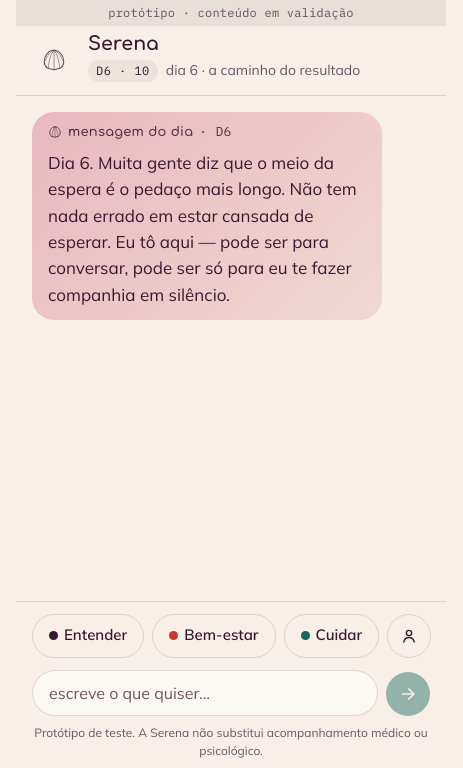
it: Chat (Degrau B) › chip Falar com uma pessoa abre a Ponte Humana direto
The image size is (463, 768).
Click the button named "Falar com uma pessoa" at (409, 636), box [387,614,431,658]
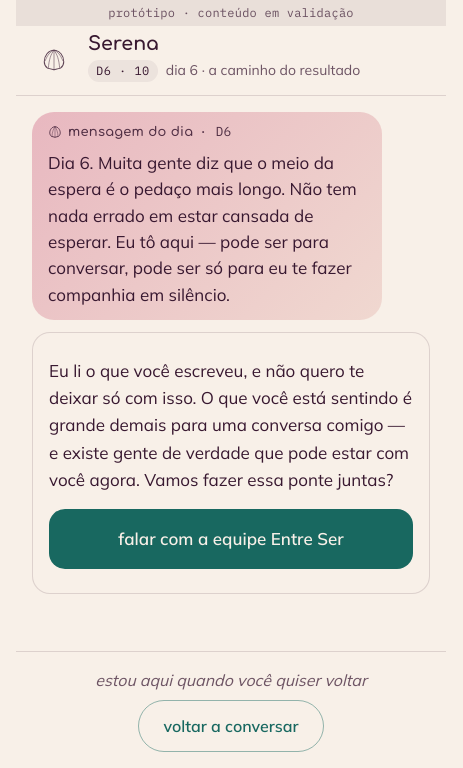
Now the element named "Ponte Humana" is shown, box [32,332,430,594]
